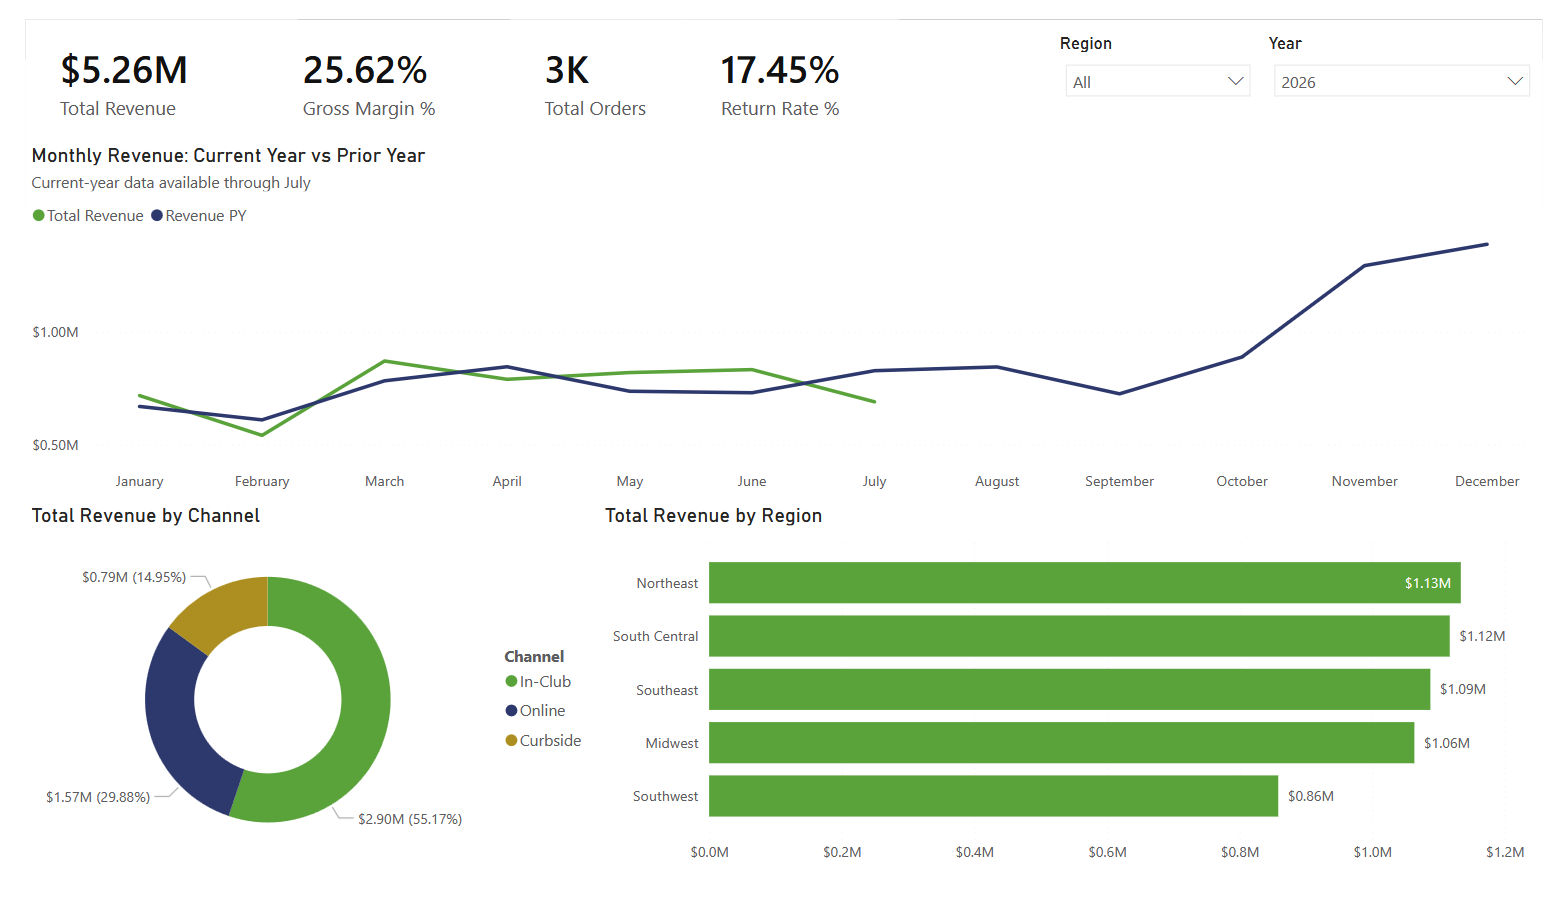

This screenshot's page, from the dashboard's own definition file:
{"tool":"powerbi","page":{"name":"Executive Overview","canvas":[1280,720],"ordinal":0},"visuals":[{"type":"slicer","title":"Year","fields":{"Values":["Dim_Date.Year"]},"box":[1044.1,11.7,235.9,92.4],"z":0},{"type":"cardVisual","fields":{"Data":["_Measures.Total Revenue"]},"box":[0,0,230,103.8],"z":1000},{"type":"cardVisual","fields":{"Data":["_Measures.Gross Margin %"]},"box":[204.5,0,190.3,103.8],"z":2000},{"type":"cardVisual","fields":{"Data":["_Measures.Total Orders"]},"box":[409,0,148.6,103.8],"z":3000},{"type":"cardVisual","fields":{"Data":["_Measures.Return Rate %"]},"box":[557.6,0,179.1,103.8],"z":4000},{"type":"lineChart","title":"Monthly Revenue: Current Year vs Prior Year","fields":{"Category":["Dim_Date.MonthName"],"Y":["_Measures.Total Revenue","_Measures.Revenue PY"]},"box":[0,103.9,1279.7,304.5],"z":5000},{"type":"barChart","fields":{"Category":["stores.Region"],"Y":["_Measures.Total Revenue"]},"box":[483.6,408.4,796.1,312.5],"z":6000},{"type":"donutChart","fields":{"Category":["orders.Channel"],"Y":["_Measures.Total Revenue"]},"box":[0,408.4,483.6,312.5],"z":7000},{"type":"slicer","title":"Region","fields":{"Values":["stores.Region"]},"box":[868.3,11.7,175.8,92.4],"z":8000}]}

Visuals, with their boxes in screenshot pixels (x1, y1, x2, y2), scaled from the page's 1280x720 canvas onto the 1566x898 screenshot:
"Year" slicer: 1277:15:1565:130
cardVisual - _Measures.Total Revenue: 0:0:281:129
cardVisual - _Measures.Gross Margin %: 250:0:483:129
cardVisual - _Measures.Total Orders: 500:0:682:129
cardVisual - _Measures.Return Rate %: 682:0:901:129
"Monthly Revenue: Current Year vs Prior Year" lineChart: 0:130:1565:509
barChart - stores.Region x _Measures.Total Revenue: 592:509:1565:897
donutChart - orders.Channel x _Measures.Total Revenue: 0:509:592:897
"Region" slicer: 1062:15:1277:130
